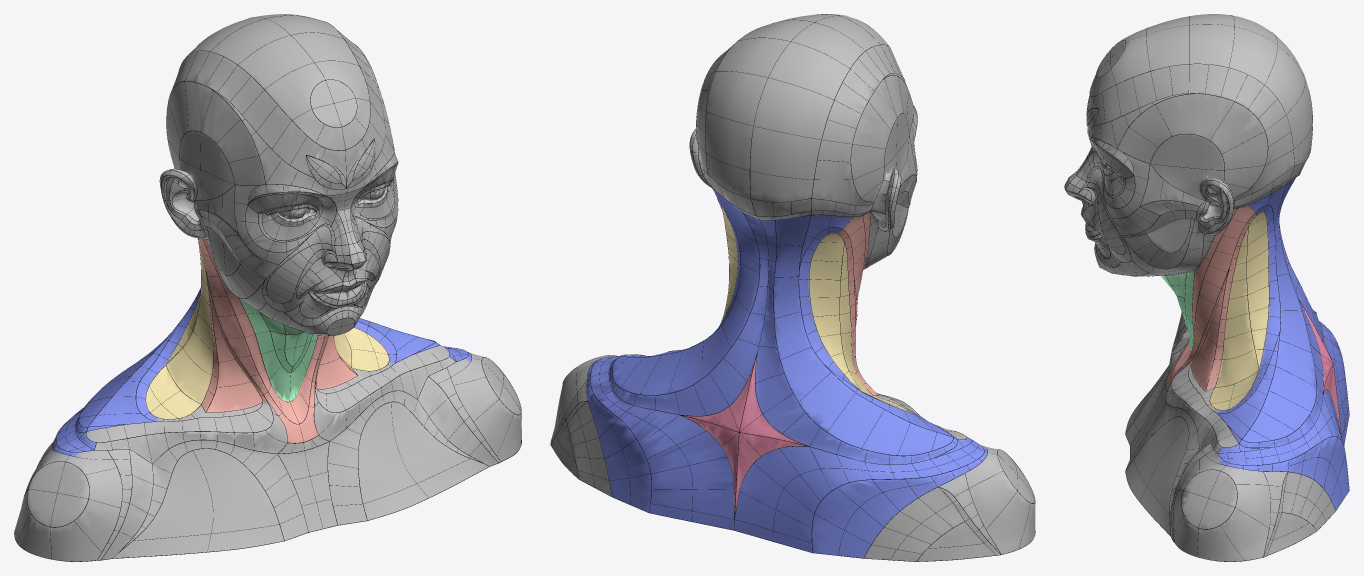
File: 头部分面体_20260324190551_opt.glb
3 renders of one model, left to right at view 1: azimuth 30°, elevation 25°; view 2: azimuth 150°, elevation 25°; view 3: azimuth 270°, elevation 25°, orthographic. The views are drawn at different scales.
Parts seen in each view (by area): view 1: AmyBlockOutSkin, AmyBlockOutLines; view 2: AmyBlockOutSkin, AmyBlockOutLines; view 3: AmyBlockOutSkin, AmyBlockOutLines.
Boxes of the visible parts, x1,y1,x2,y2 form: AmyBlockOutSkin: (14,14,521,561); AmyBlockOutLines: (14,15,521,561); AmyBlockOutSkin: (550,14,1035,561); AmyBlockOutLines: (550,14,1035,561); AmyBlockOutSkin: (1064,14,1349,561); AmyBlockOutLines: (1064,15,1349,561).
Bounding box in the file's own units: 0.4366 × 0.4 × 0.2411.
3 materials, 1 textured.
